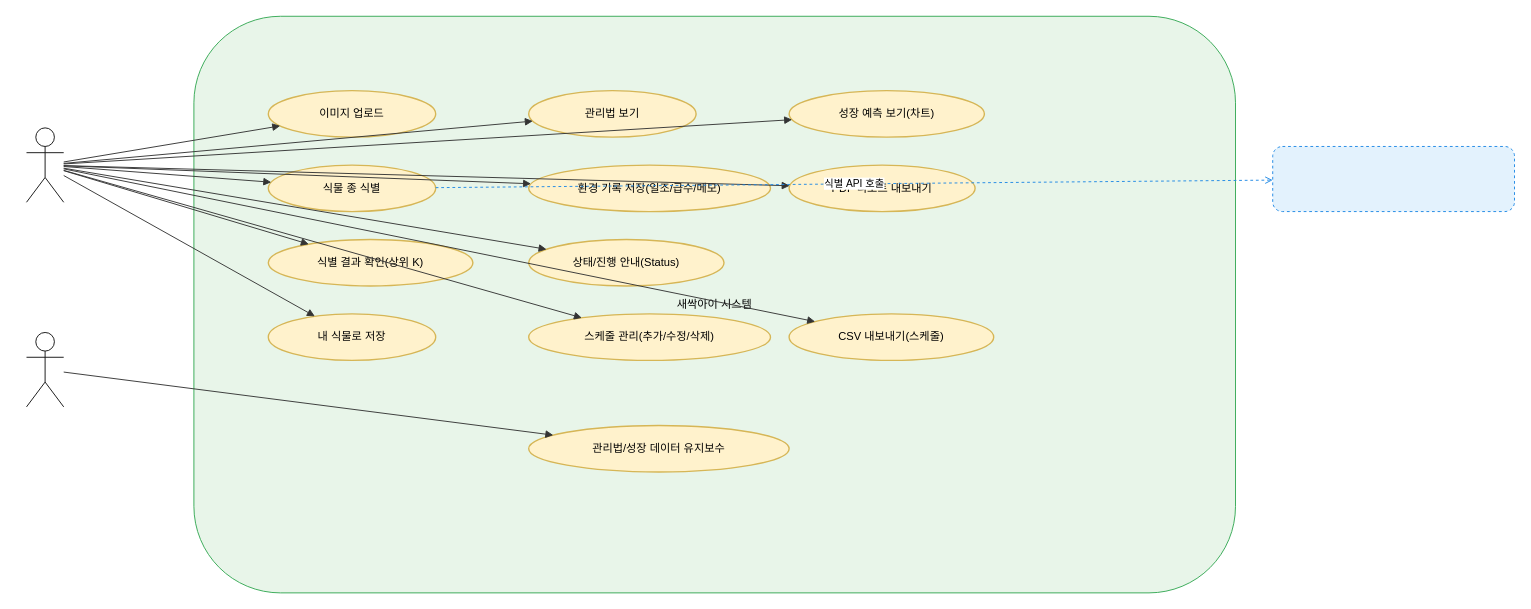
This 1531x609 diagram has some shape labels left out. Each missing label, with the centre of its shape:
"관리자(옵션)" goes at point 45,369.
"사용자" goes at point 45,164.
"외부 AI 식별 서비스" goes at point 1393,179.
